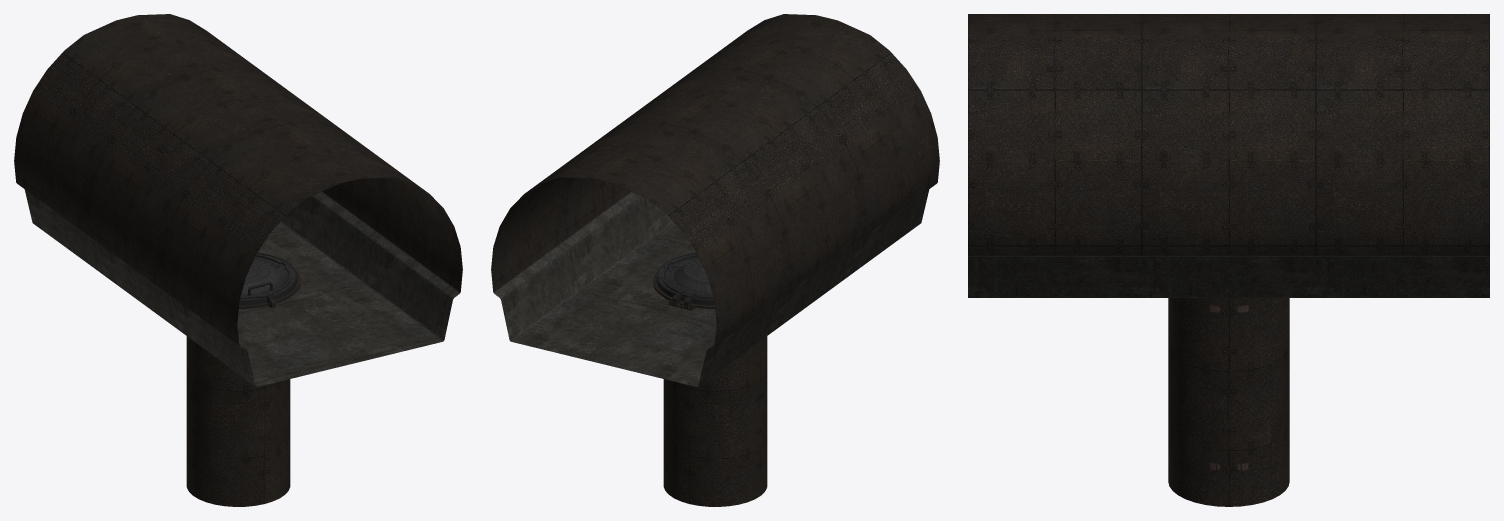
The model's file is tunnel_manhole_shaft_end_1.glb.
The picture shows the model from 3 angles, left to right: view 1: azimuth 30°, elevation 25°; view 2: azimuth 150°, elevation 25°; view 3: azimuth 270°, elevation 25°; orthographic projection. The views are drawn at different scales.
Parts seen in each view (by area): view 1: tunnel_manhole_shaft_end_1, tunnel_manhole_cover_1; view 2: tunnel_manhole_shaft_end_1, tunnel_manhole_cover_1; view 3: tunnel_manhole_shaft_end_1.
Boxes of the visible parts, x1,y1,x2,y2 form: tunnel_manhole_shaft_end_1: (14,14,462,506); tunnel_manhole_cover_1: (239,252,297,306); tunnel_manhole_shaft_end_1: (491,14,939,506); tunnel_manhole_cover_1: (656,252,714,305); tunnel_manhole_shaft_end_1: (968,14,1489,506).
Size of the model in its own units: 3.5 by 5.72 by 6.
Materials: 5 (5 with a texture image).
